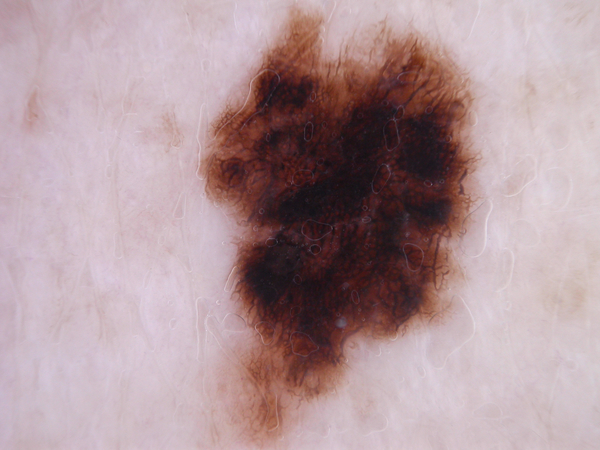Detected Lesion: (193, 7, 481, 443)
